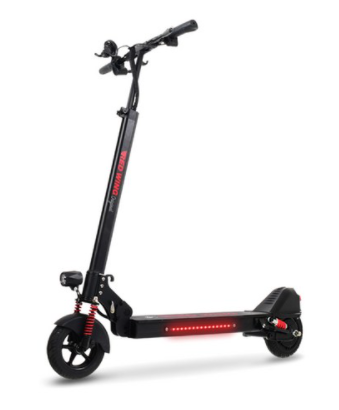scooter: (44, 20, 305, 383)
